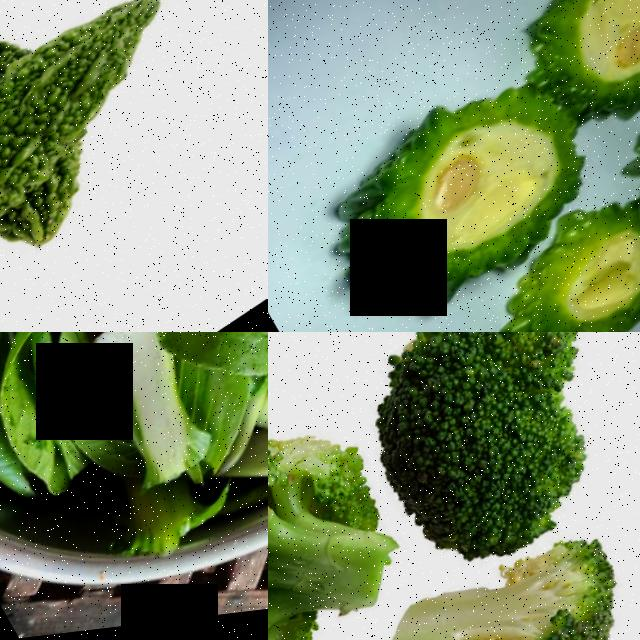-: (268, 379, 425, 640)
bitter gourd: (0, 0, 239, 322), (319, 69, 596, 332), (488, 173, 640, 332), (526, 0, 640, 140), (0, 0, 55, 136)
broccoli: (314, 332, 636, 617), (295, 516, 640, 640)
